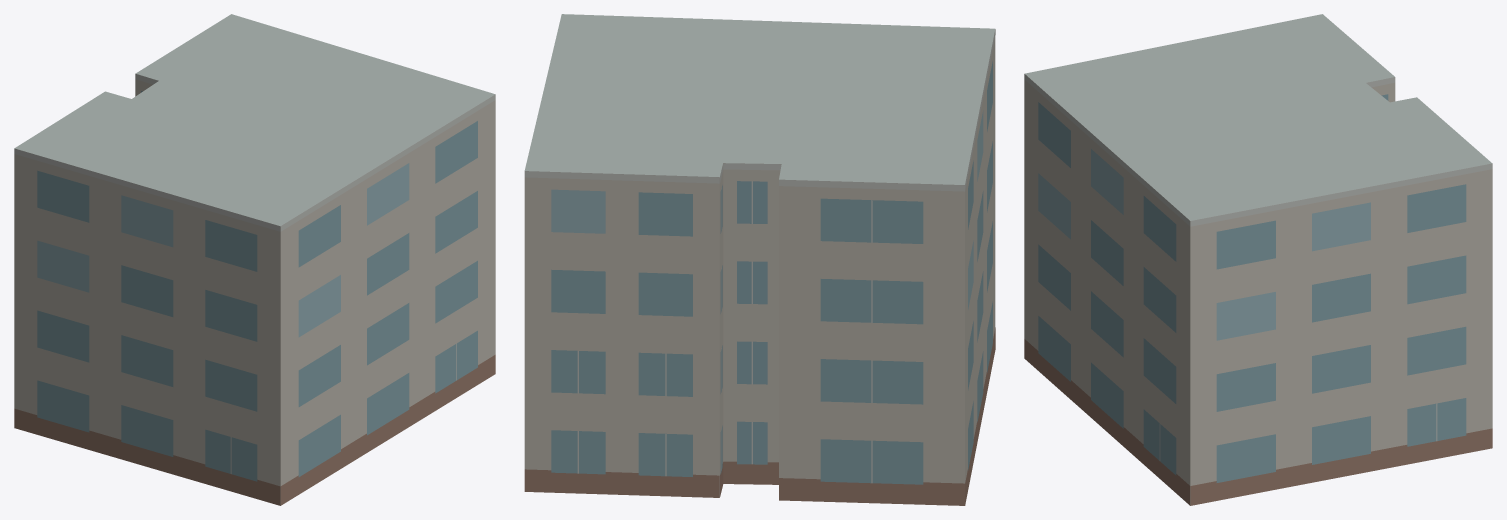
File: survey-upis-32741812.glb
The picture shows the model from 3 angles, left to right: view 1: azimuth 30°, elevation 25°; view 2: azimuth 150°, elevation 25°; view 3: azimuth 270°, elevation 25°; orthographic projection. The views are drawn at different scales.
Visible parts, largest first — view 1: survey-upis-32741812.tmp; view 2: survey-upis-32741812.tmp; view 3: survey-upis-32741812.tmp.
Part boxes in pixels (<box>): survey-upis-32741812.tmp: <box>14,14,495,505</box>; survey-upis-32741812.tmp: <box>524,14,995,505</box>; survey-upis-32741812.tmp: <box>1024,14,1492,505</box>.
Size of the model in its own units: 19.03 by 12.2 by 18.18.
